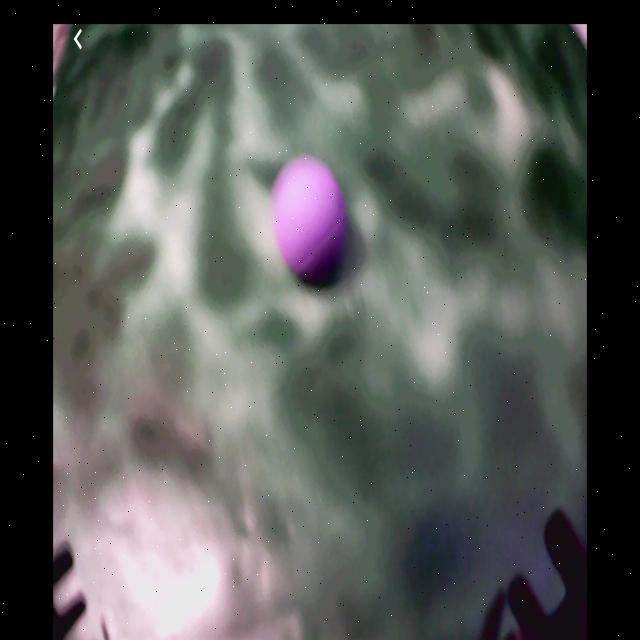ball: (271, 154, 349, 280)
